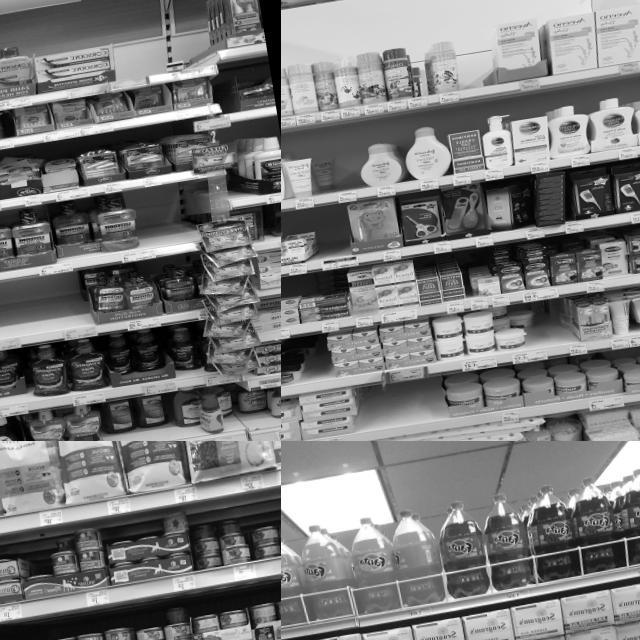empty: (366, 378, 448, 440), (17, 274, 85, 346), (135, 183, 188, 258), (116, 39, 170, 90), (312, 208, 354, 272), (452, 36, 488, 102), (328, 139, 363, 204), (0, 284, 24, 356), (536, 314, 564, 360), (306, 352, 335, 395)
